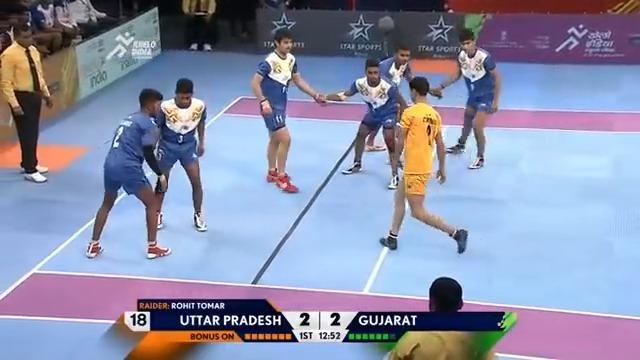Player: (85, 87, 171, 259), (250, 29, 326, 193), (320, 57, 408, 189), (431, 27, 502, 169), (151, 77, 208, 232), (365, 43, 415, 162)
Raider: (379, 75, 468, 254)
referee: (384, 276, 517, 359), (0, 20, 53, 183), (181, 0, 217, 51)
